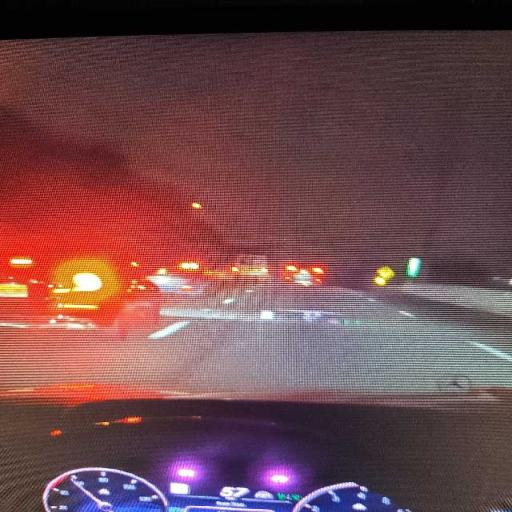car: (52, 278, 163, 333)
lane: (0, 285, 511, 393)
